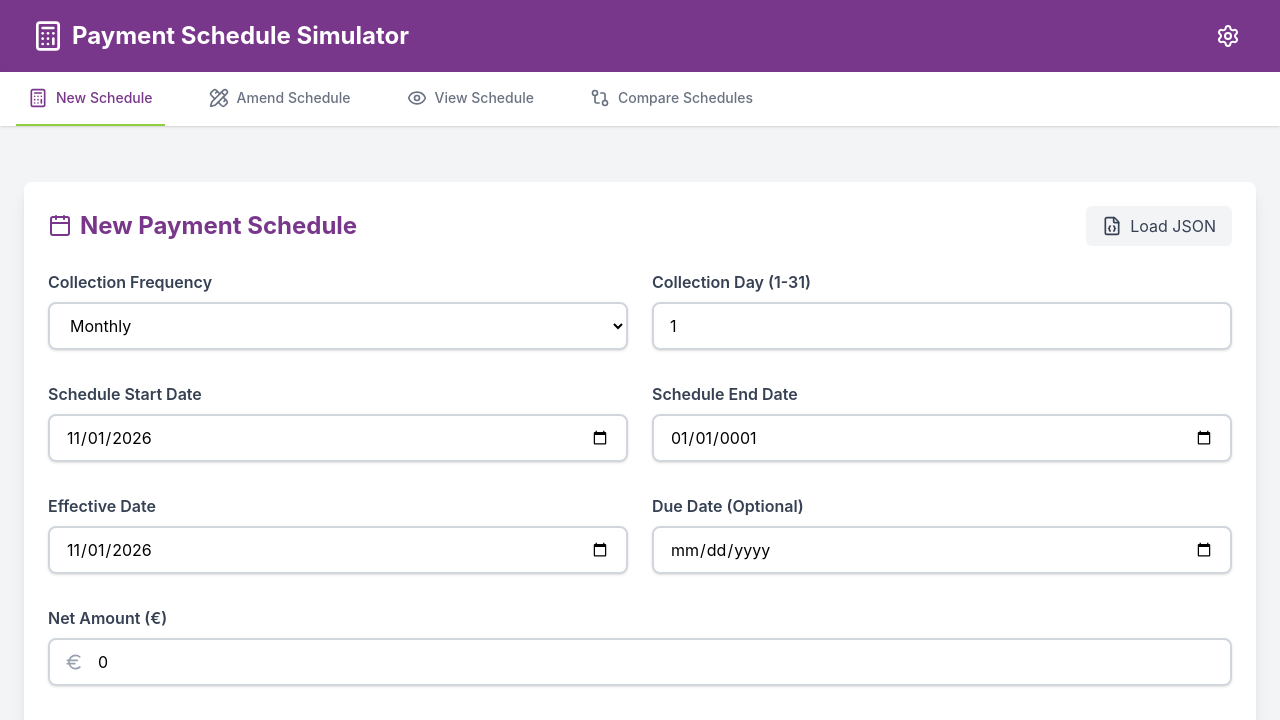
Scenario: App — settings and config dialog › opens the config dialog from the Settings button and clears a prior cancellation
Check: the text "Configuration" is not shown
Click the button titled "Settings": (1228, 36) [1208,16,1248,56]
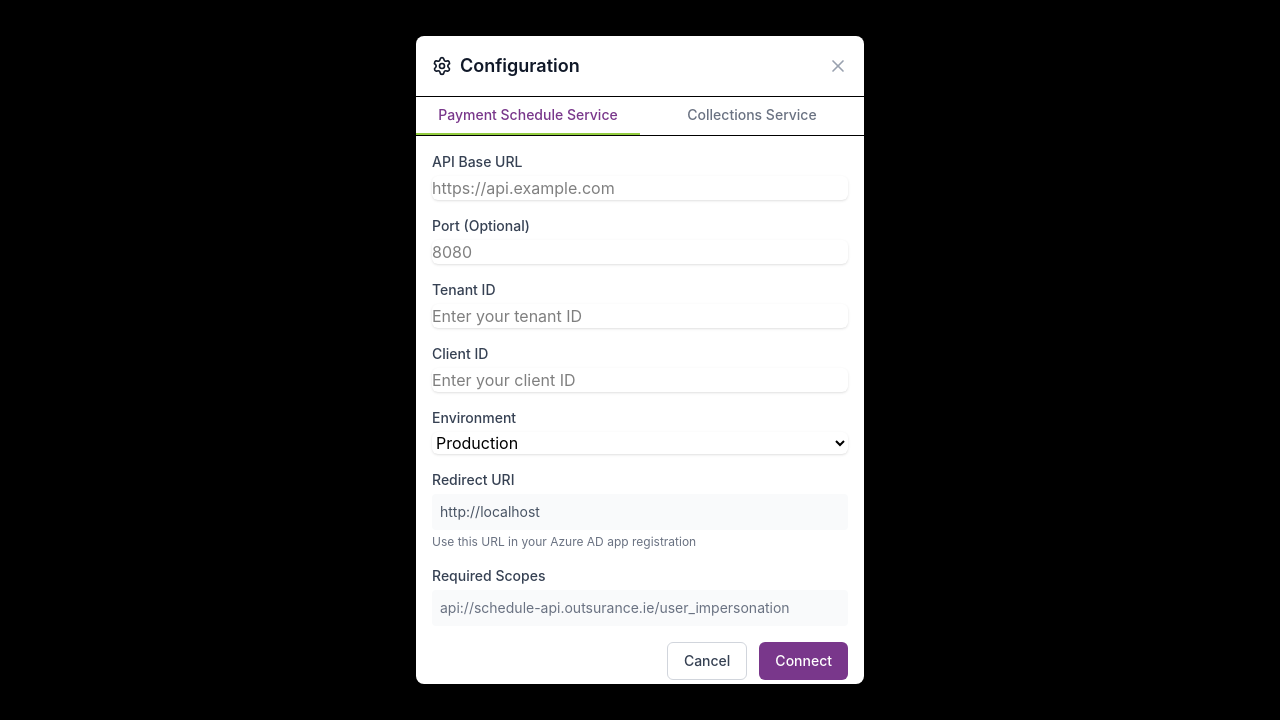
Check: the heading "Configuration" is shown, box [432,52,580,80]
